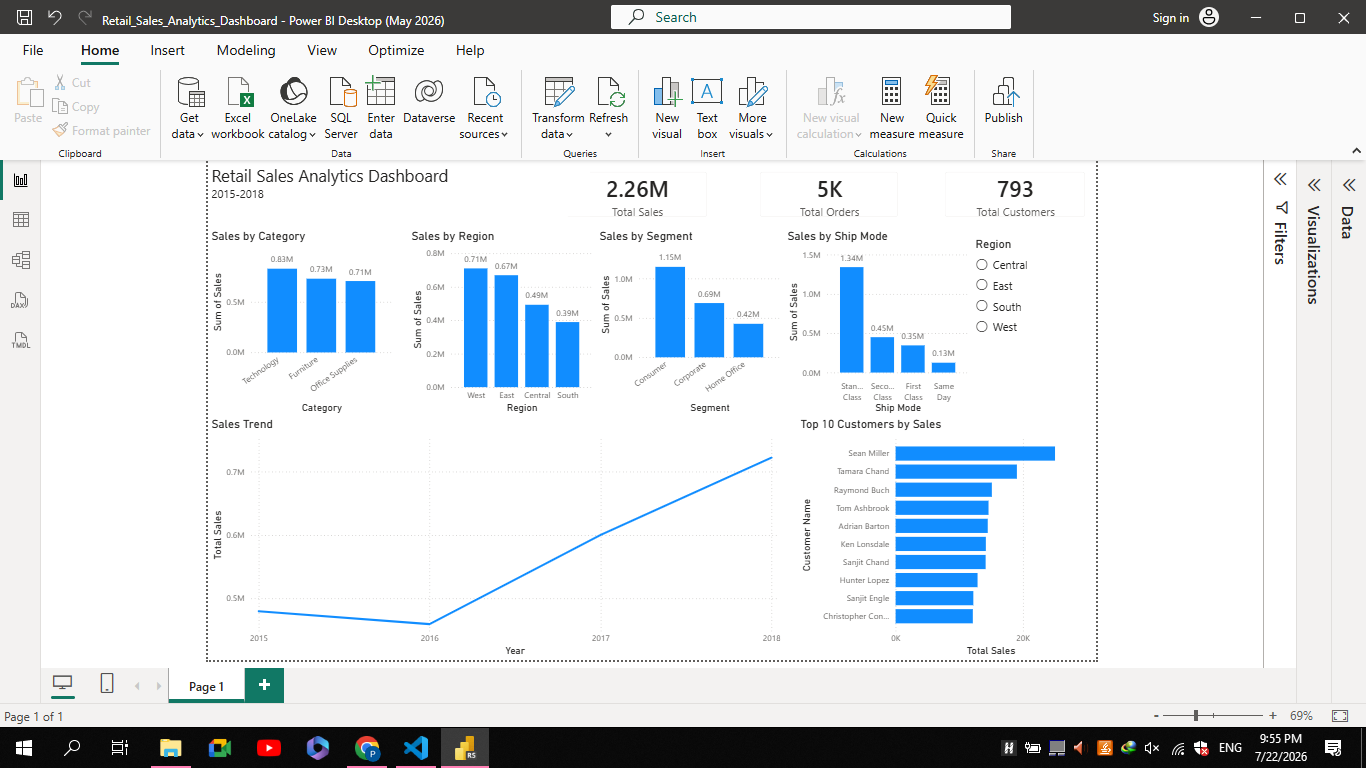

What the dashboard file says about the page in this screenshot:
{"tool":"powerbi","page":{"name":"Page 1","canvas":[1280,720],"ordinal":0},"visuals":[{"type":"columnChart","title":"Sales by Category","fields":{"Category":["cleaned-sample.Category"],"Y":["Sum(cleaned-sample.Sales)"]},"box":[0,99.4,270.7,270.7],"z":0},{"type":"columnChart","title":"Sales by Region","fields":{"Category":["cleaned-sample.Region"],"Y":["Sum(cleaned-sample.Sales)"]},"box":[288,99.4,270.7,270.7],"z":1000},{"type":"columnChart","title":"Sales by Ship Mode","fields":{"Y":["Sum(cleaned-sample.Sales)"],"Category":["cleaned-sample.Ship Mode"]},"box":[829.4,99.4,270.7,270.7],"z":2000},{"type":"columnChart","title":"Sales by Segment","fields":{"Category":["cleaned-sample.Segment"],"Y":["Sum(cleaned-sample.Sales)"]},"box":[558.7,99.4,270.7,270.7],"z":3000},{"type":"cardVisual","title":"Total Sales","fields":{"Data":["cleaned-sample.Total Sales"]},"box":[499.7,0,236.2,99.4],"z":4000},{"type":"listSlicer","fields":{"Values":["cleaned-sample.Region"]},"box":[1100.2,110.9,180,249.1],"z":5000},{"type":"lineChart","title":"Sales Trend","fields":{"Y":["cleaned-sample.Total Sales"],"Category":["cleaned-sample.Order Date.Variation.Date Hierarchy.Year","cleaned-sample.Order Date.Variation.Date Hierarchy.Quarter","cleaned-sample.Order Date.Variation.Date Hierarchy.Month","cleaned-sample.Order Date.Variation.Date Hierarchy.Day"]},"box":[0,370.1,829.4,349.9],"z":5001},{"type":"cardVisual","fields":{"Data":["cleaned-sample.Total Orders"]},"box":[777.6,0,233.3,99.4],"z":5002},{"type":"cardVisual","fields":{"Data":["cleaned-sample.Total Customers"]},"box":[1044,0,236.2,99.4],"z":5003},{"type":"barChart","title":"Top 10 Customers by Sales","fields":{"Category":["cleaned-sample.Customer Name"],"Y":["cleaned-sample.Total Sales"]},"box":[848.2,370.1,432,349.9],"z":5004},{"type":"textbox","box":[0,0,550.1,80.6],"z":5006}]}

Visuals, with their boxes on the page's 1280x720 design canvas (x1, y1, x2, y2). These are canvas units, not pixel positions in the 1366x768 screenshot, which may show the page scaled, cropped or inside an application window:
"Sales by Category" columnChart: 0:99:271:370
"Sales by Region" columnChart: 288:99:559:370
"Sales by Ship Mode" columnChart: 829:99:1100:370
"Sales by Segment" columnChart: 559:99:829:370
"Total Sales" cardVisual: 500:0:736:99
listSlicer - cleaned-sample.Region: 1100:111:1280:360
"Sales Trend" lineChart: 0:370:829:720
cardVisual - cleaned-sample.Total Orders: 778:0:1011:99
cardVisual - cleaned-sample.Total Customers: 1044:0:1280:99
"Top 10 Customers by Sales" barChart: 848:370:1280:720
textbox: 0:0:550:81
